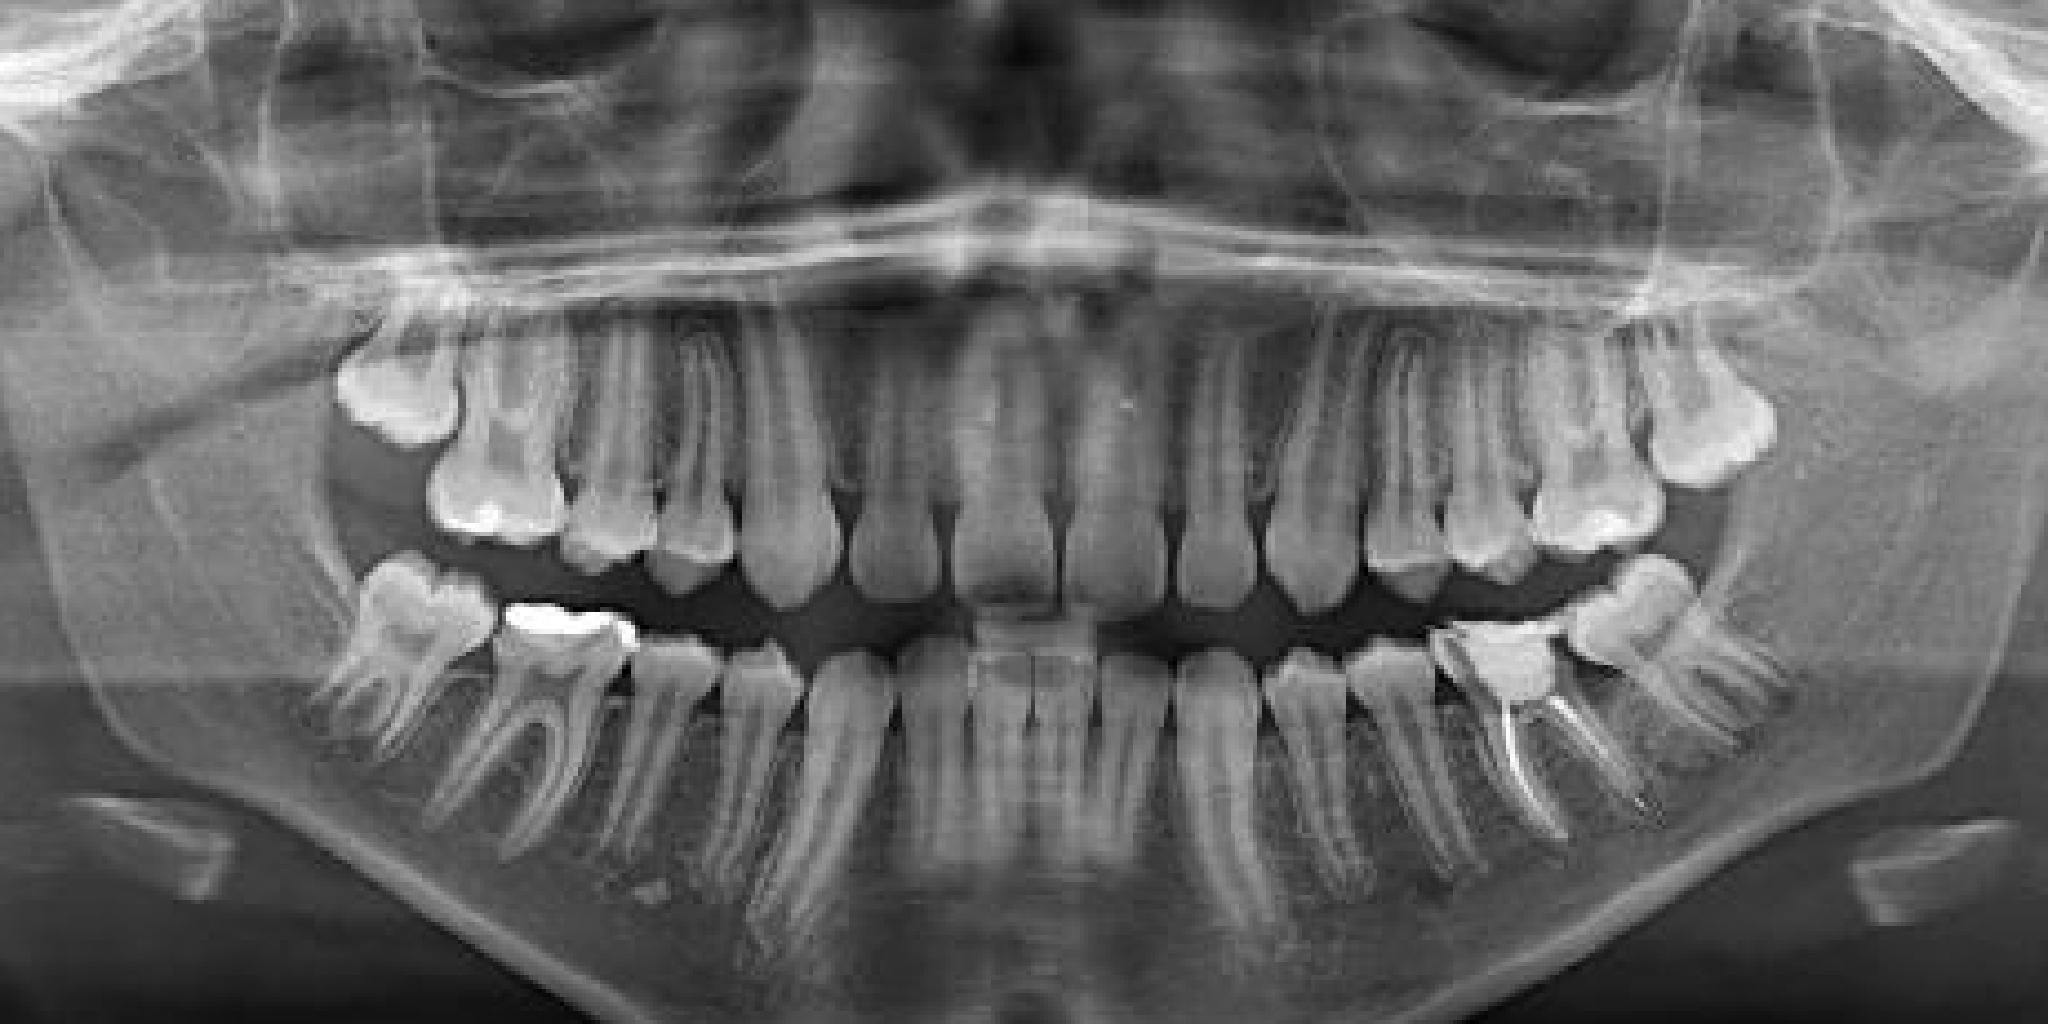Tooth: (353, 538, 697, 896), (1371, 551, 1712, 895), (1531, 505, 1817, 799), (401, 276, 639, 579), (1462, 287, 1686, 586), (1322, 609, 1539, 903), (733, 630, 914, 965), (286, 525, 513, 792), (1041, 293, 1211, 636), (697, 263, 859, 622), (539, 603, 741, 892), (906, 306, 1081, 635), (1145, 306, 1311, 632), (1240, 623, 1422, 909), (1586, 270, 1799, 516), (1247, 291, 1395, 630), (657, 620, 820, 906), (845, 620, 1004, 903), (315, 244, 508, 468), (613, 313, 759, 601), (1347, 319, 1485, 610), (1411, 308, 1550, 596), (542, 299, 667, 581)
